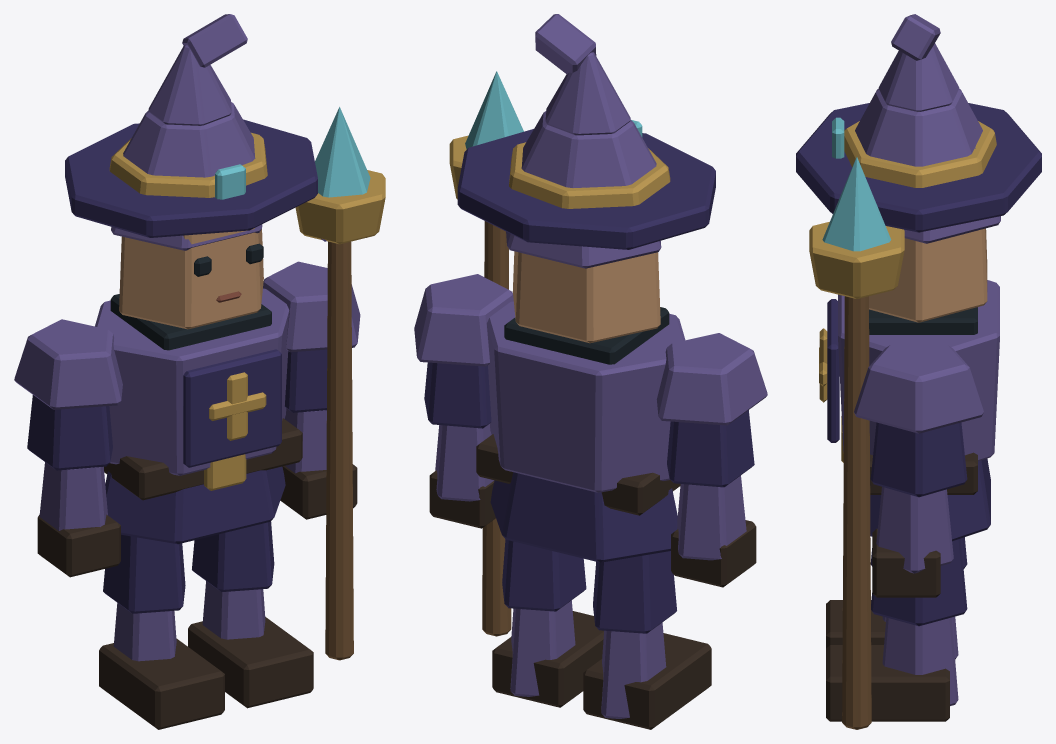
The model's file is mage.glb.
The picture shows the model from 3 angles, left to right: view 1: azimuth 30°, elevation 25°; view 2: azimuth 150°, elevation 25°; view 3: azimuth 270°, elevation 25°; orthographic projection. The views are drawn at different scales.
Visible parts, largest first — view 1: head.003, torso.003, weapon.003, pelvis.003, upper_arm_l.003, shin_l.003, shin_r.003, forearm_l.003, upper_arm_r.003, hat_tip, thigh_l.003, thigh_r.003 (+1 smaller); view 2: head.003, torso.003, pelvis.003, upper_arm_l.003, upper_arm_r.003, shin_l.003, shin_r.003, forearm_l.003, weapon.003, hat_tip, thigh_l.003, forearm_r.003 (+1 smaller); view 3: head.003, weapon.003, upper_arm_r.003, torso.003, shin_r.003, forearm_r.003, hat_tip, pelvis.003, thigh_r.003, shin_l.003.
Part boxes in pixels (<box>): head.003: <box>65,102,317,329</box>; torso.003: <box>95,288,289,475</box>; weapon.003: <box>295,107,385,660</box>; pelvis.003: <box>104,418,302,544</box>; upper_arm_l.003: <box>14,319,122,470</box>; shin_l.003: <box>99,603,224,729</box>; shin_r.003: <box>188,581,313,708</box>; forearm_l.003: <box>37,462,120,577</box>; upper_arm_r.003: <box>263,261,360,412</box>; hat_tip: <box>148,14,247,125</box>; thigh_l.003: <box>103,534,185,613</box>; thigh_r.003: <box>192,521,274,591</box>; head.003: <box>457,111,715,343</box>; torso.003: <box>486,301,685,492</box>; pelvis.003: <box>476,434,680,562</box>; upper_arm_l.003: <box>656,333,767,487</box>; upper_arm_r.003: <box>414,274,513,428</box>; shin_l.003: <box>583,622,711,729</box>; shin_r.003: <box>492,600,603,707</box>; forearm_l.003: <box>671,475,756,587</box>; weapon.003: <box>449,71,523,636</box>; hat_tip: <box>535,14,630,135</box>; thigh_l.003: <box>593,551,676,633</box>; forearm_r.003: <box>429,423,495,528</box>; head.003: <box>796,88,1041,322</box>; weapon.003: <box>809,157,904,729</box>; upper_arm_r.003: <box>854,345,983,497</box>; torso.003: <box>819,280,999,461</box>; shin_r.003: <box>826,617,958,721</box>; forearm_r.003: <box>872,487,953,597</box>; hat_tip: <box>878,14,959,111</box>; pelvis.003: <box>841,416,990,541</box>; thigh_r.003: <box>871,538,967,626</box>; shin_l.003: <box>826,600,958,659</box>.
Size of the model in its own units: 1.26 by 2.43 by 0.7915.
